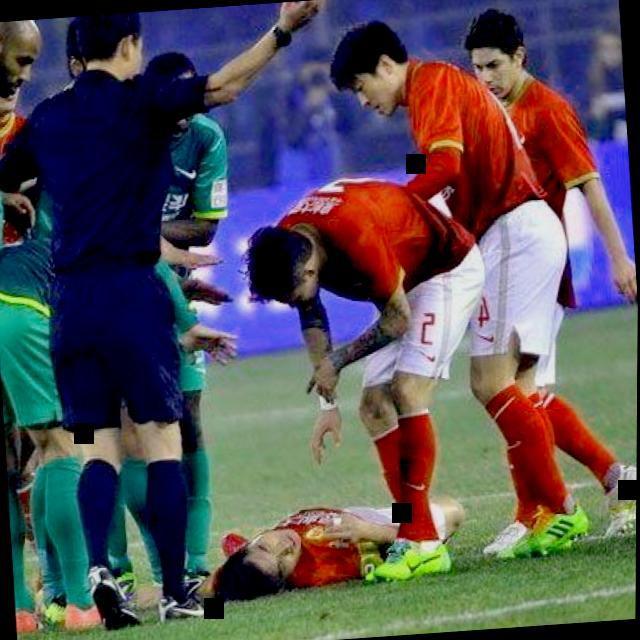Fall-Detected: (187, 476, 476, 608)
